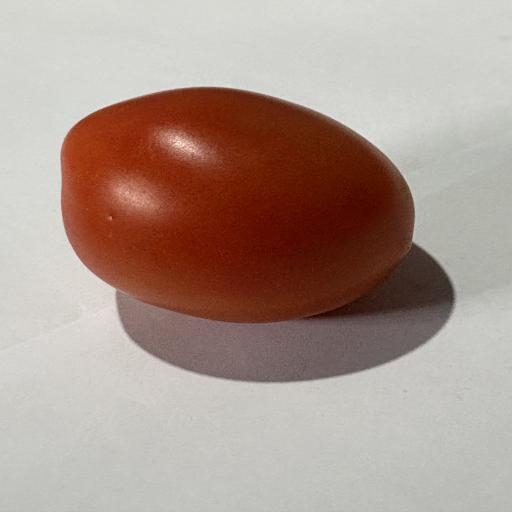ripe: (61, 87, 414, 323)
